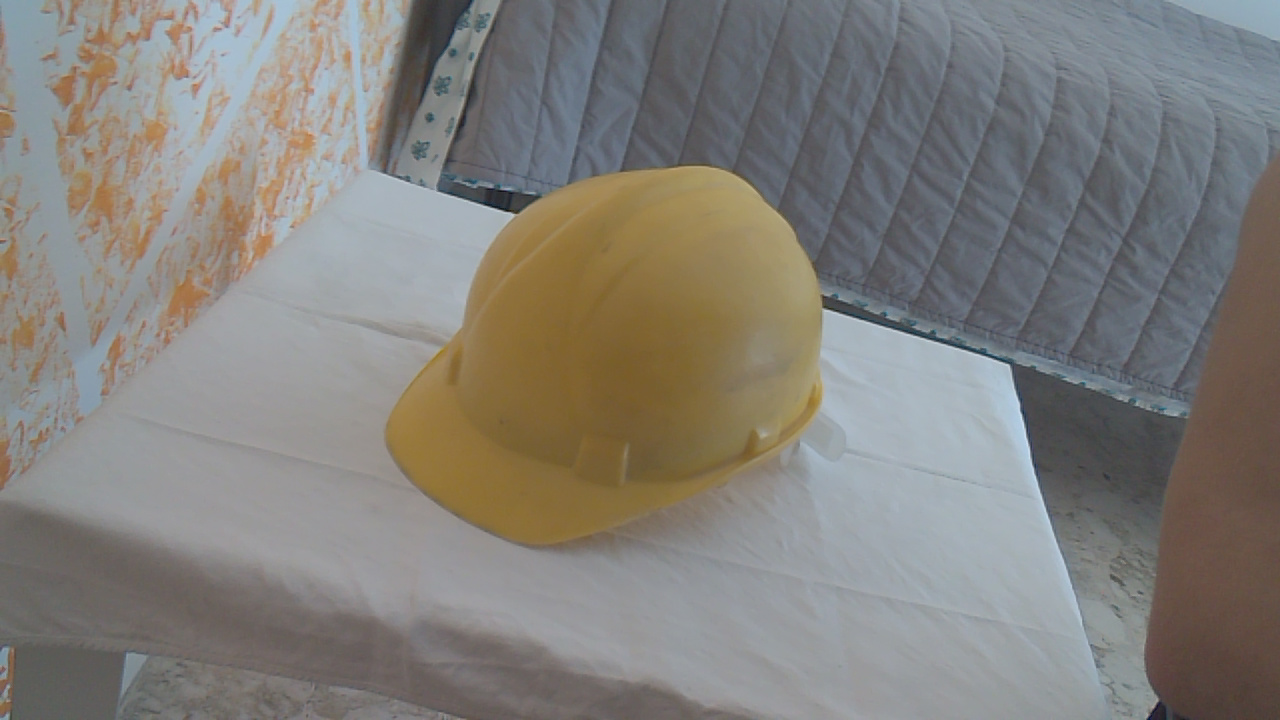Helmet: (391, 158, 847, 562)
